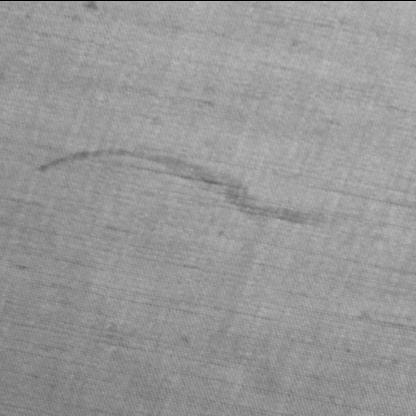oil spot: (36, 144, 328, 226)
